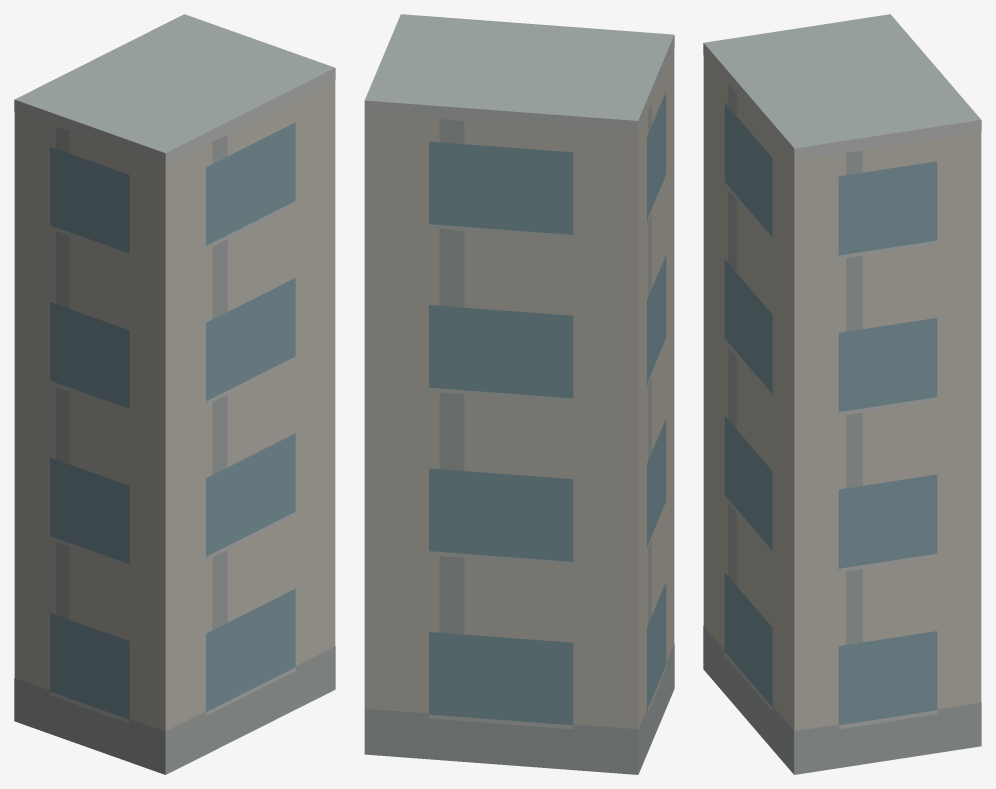
Rendered from survey-upis-32512176.glb.
3 views of the same model, side by side, from view 1: azimuth 30°, elevation 25°; view 2: azimuth 150°, elevation 25°; view 3: azimuth 270°, elevation 25° (orthographic). The views are drawn at different scales.
Parts seen in each view (by area): view 1: survey-upis-32512176.tmp; view 2: survey-upis-32512176.tmp; view 3: survey-upis-32512176.tmp.
Part boxes in pixels (x1,y1,x2,y2): survey-upis-32512176.tmp: (14, 14, 335, 774); survey-upis-32512176.tmp: (364, 14, 674, 774); survey-upis-32512176.tmp: (703, 14, 981, 774).
Size of the model in its own units: 5.62 by 12.2 by 4.91.
